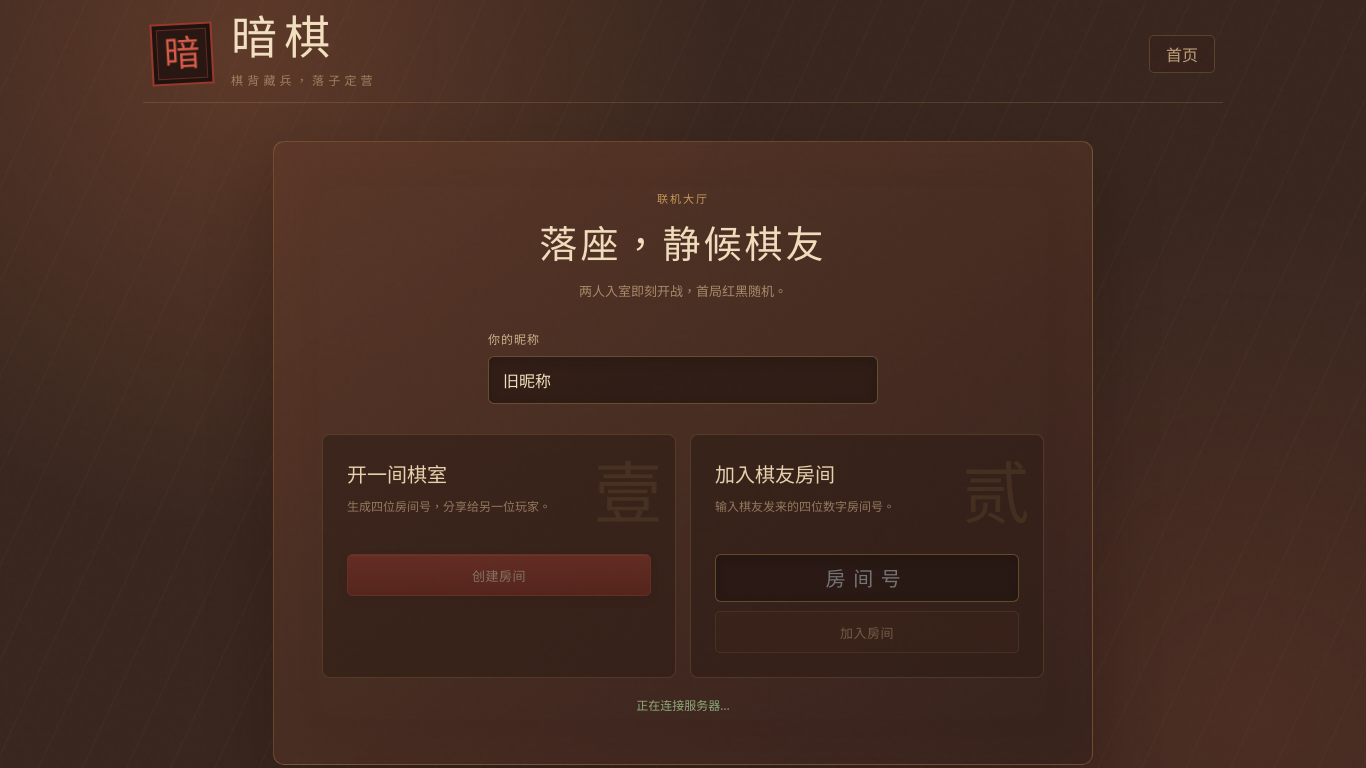
Test: App › renders the online lobby with a remembered required nickname and room-code entry
The width and height of the screenshot is (1366, 768).
Expected: the button "创建房间" is shown, [347,554,651,596]
Expected: the field named "四位房间号" is shown, [715,554,1019,602]
Clear the field labelled "你的昵称" at (683, 380), box [488,356,878,404]
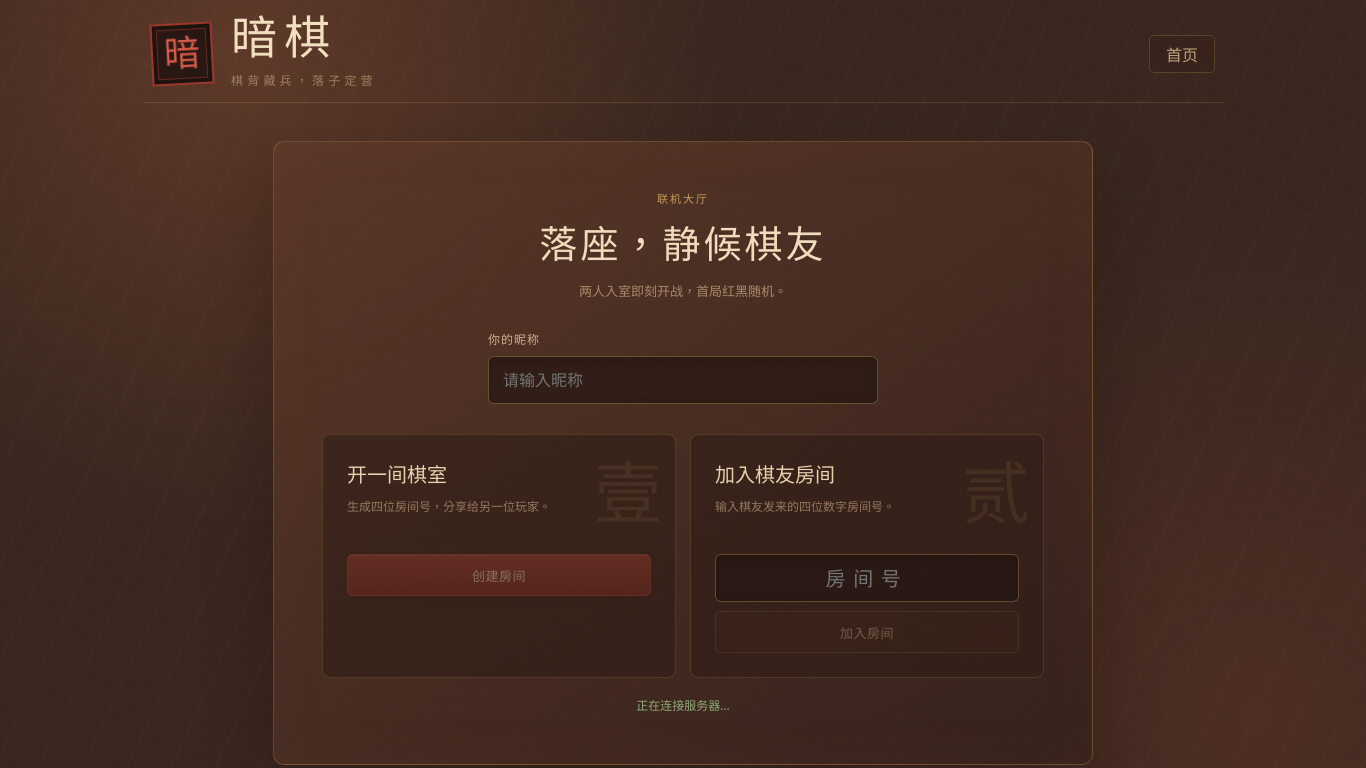
Submit the form "加入房间", box [690,434,1044,678]
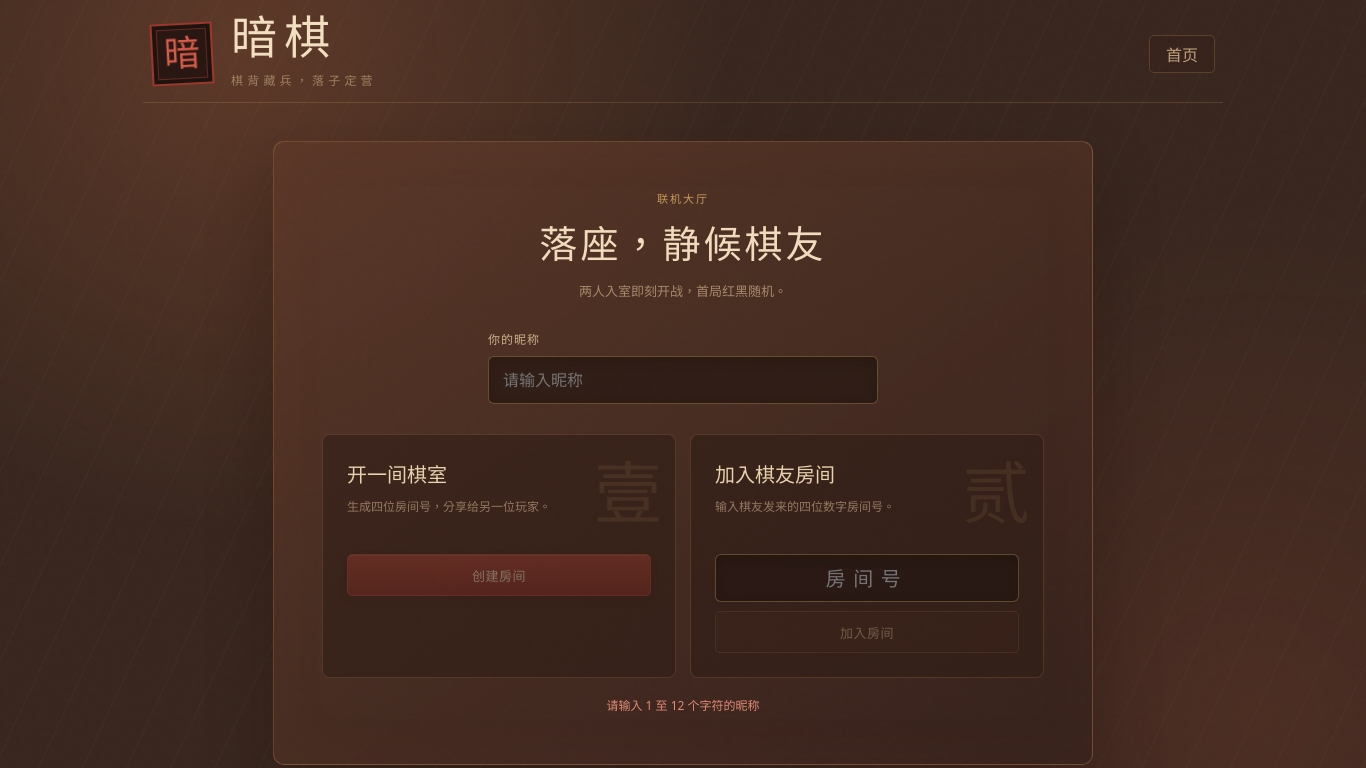
Expected: the message reads "请输入 1 至 12 个字符的昵称", [606,697,760,714]
